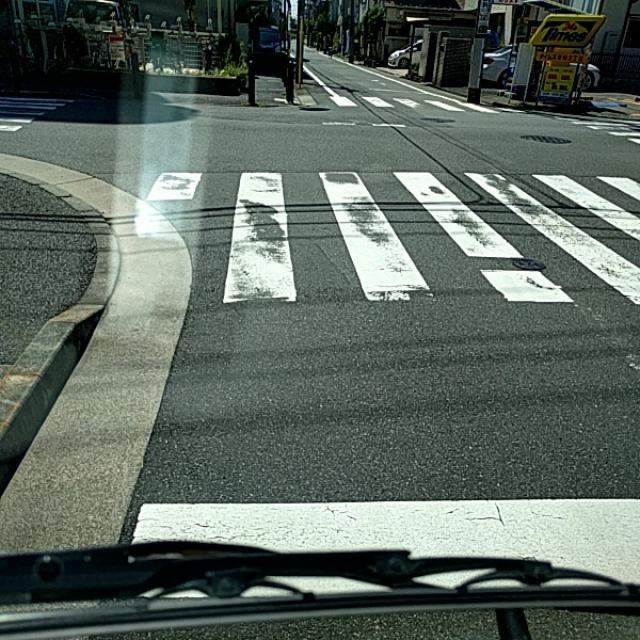pothole: (479, 246, 542, 300)
